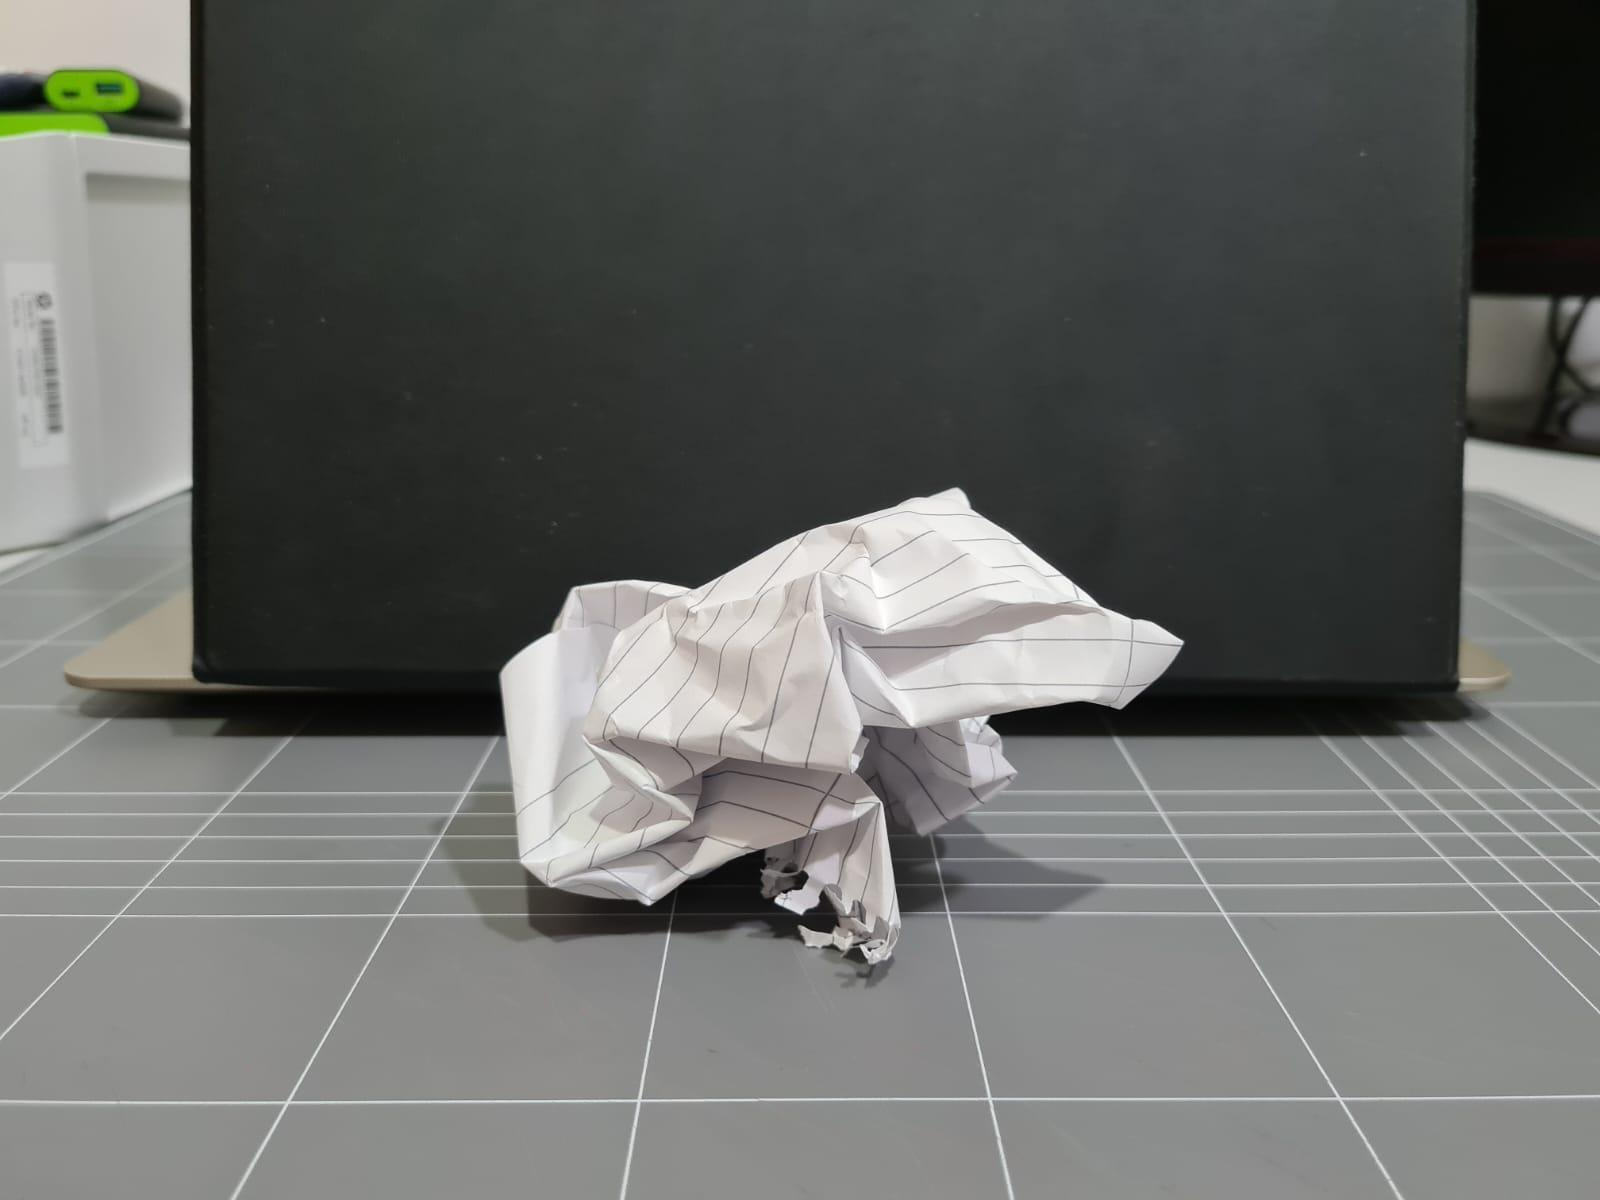Paper: (486, 498, 1187, 950)
